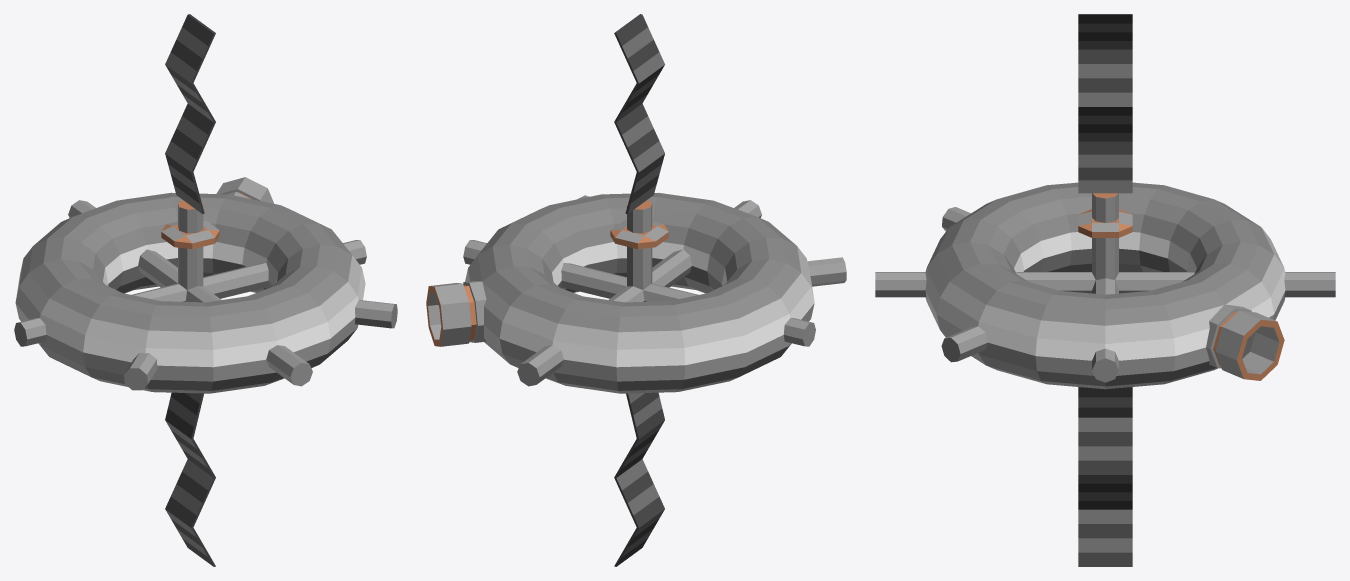
The model's file is Station_v2.fbx.
The picture shows the model from 3 angles, left to right: view 1: azimuth 30°, elevation 25°; view 2: azimuth 150°, elevation 25°; view 3: azimuth 270°, elevation 25°; orthographic projection. The views are drawn at different scales.
Parts seen in each view (by area): view 1: Main, Солнечная панель, Солнечная панель_2, Цилиндр_Центр_1, Цилиндр_Центр_2, Цилиндр_Центр, Комната_3, Куб_украшение, Комната_3.1, Комната_2.2, Вход, Комната_1; view 2: Main, Солнечная панель, Солнечная панель_2, Вход, Цилиндр_Центр_1, Цилиндр_Центр_2, Цилиндр_Центр, Комната_2, Куб_украшение, Комната_2.2, Комната_1; view 3: Main, Солнечная панель, Солнечная панель_2, Вход, Цилиндр_Центр, Цилиндр_Центр_2, Комната_2, Комната_3, Комната_3.1, Куб_украшение, Комната_1.1.
Boxes of the visible parts, <box> form: Main: <box>15,192,365,393</box>; Солнечная панель: <box>165,14,215,213</box>; Солнечная панель_2: <box>165,392,215,566</box>; Цилиндр_Центр_1: <box>131,263,268,301</box>; Цилиндр_Центр_2: <box>178,200,203,289</box>; Цилиндр_Центр: <box>138,249,221,302</box>; Комната_3: <box>266,345,312,386</box>; Куб_украшение: <box>161,220,219,249</box>; Комната_3.1: <box>355,300,397,328</box>; Комната_2.2: <box>124,353,157,390</box>; Вход: <box>216,177,274,203</box>; Комната_1: <box>14,318,46,346</box>; Main: <box>465,192,814,393</box>; Солнечная панель: <box>614,14,664,213</box>; Солнечная панель_2: <box>614,392,664,566</box>; Вход: <box>426,281,486,346</box>; Цилиндр_Центр_1: <box>561,263,698,301</box>; Цилиндр_Центр_2: <box>627,200,652,289</box>; Цилиндр_Центр: <box>609,249,691,302</box>; Комната_2: <box>517,345,563,386</box>; Куб_украшение: <box>610,220,668,249</box>; Комната_2.2: <box>807,257,846,286</box>; Комната_1: <box>783,318,815,346</box>; Main: <box>925,182,1285,389</box>; Солнечная панель: <box>1078,14,1132,193</box>; Солнечная панель_2: <box>1078,387,1132,566</box>; Вход: <box>1206,304,1284,380</box>; Цилиндр_Центр: <box>1016,272,1194,293</box>; Цилиндр_Центр_2: <box>1092,193,1118,279</box>; Комната_2: <box>1284,272,1335,297</box>; Комната_3: <box>875,272,926,297</box>; Комната_3.1: <box>941,326,987,362</box>; Куб_украшение: <box>1078,209,1132,237</box>; Комната_1.1: <box>1092,348,1118,382</box>.
Size of the model in its own units: 300 by 450 by 340.
Materials: 1 (1 with a texture image).
